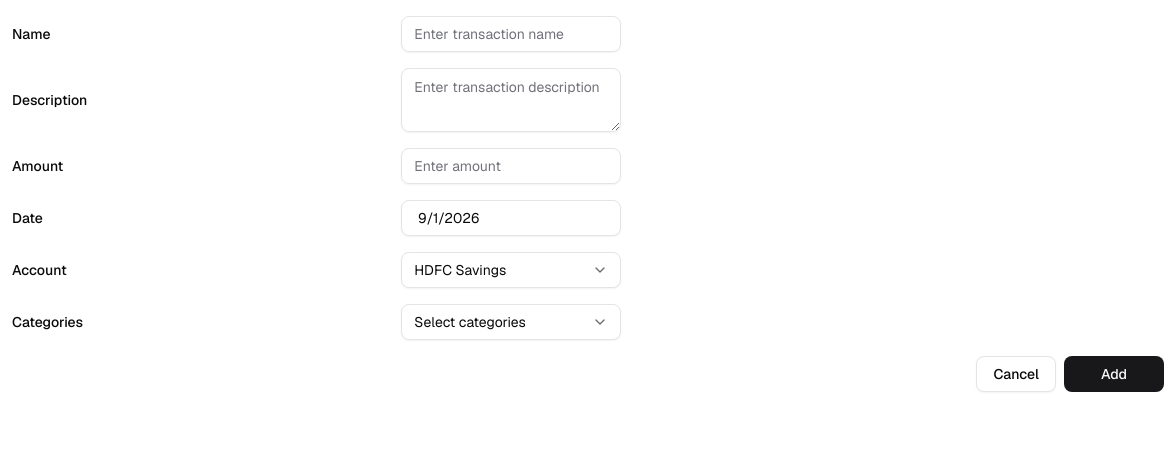
TransactionForm › toggles a category on and off
Click the button "Select categories". click: (511, 322)
box: top-left (401, 304), bottom-right (621, 340)
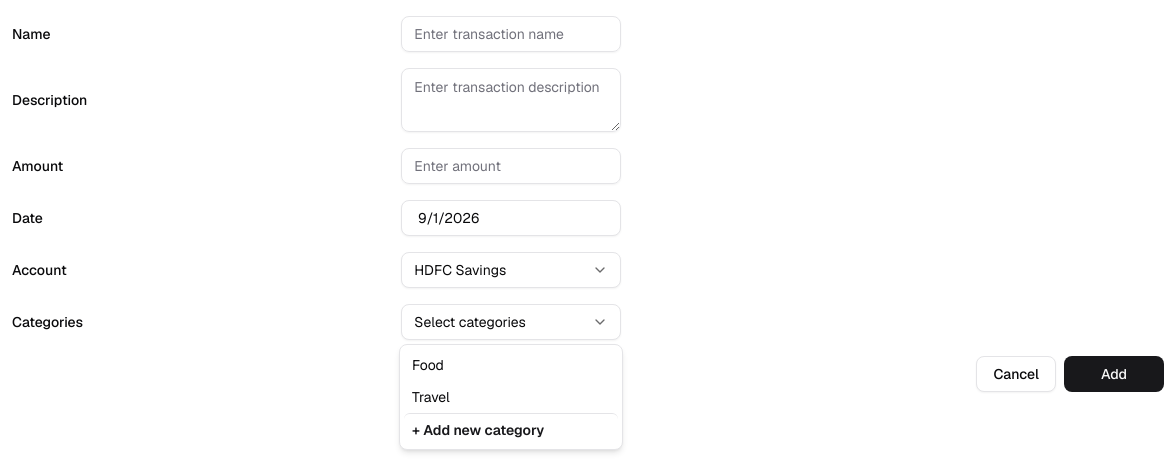
Click the menu item "Food". click: (428, 365)
box: top-left (412, 356), bottom-right (444, 374)
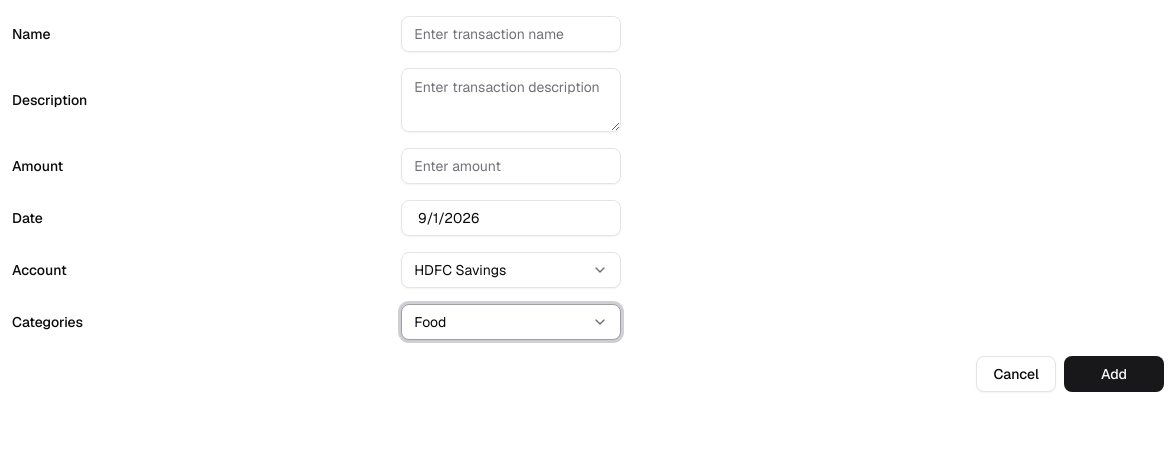
Expected: the button "Food" is shown
Click the button "Food". click: (511, 322)
box: top-left (401, 304), bottom-right (621, 340)
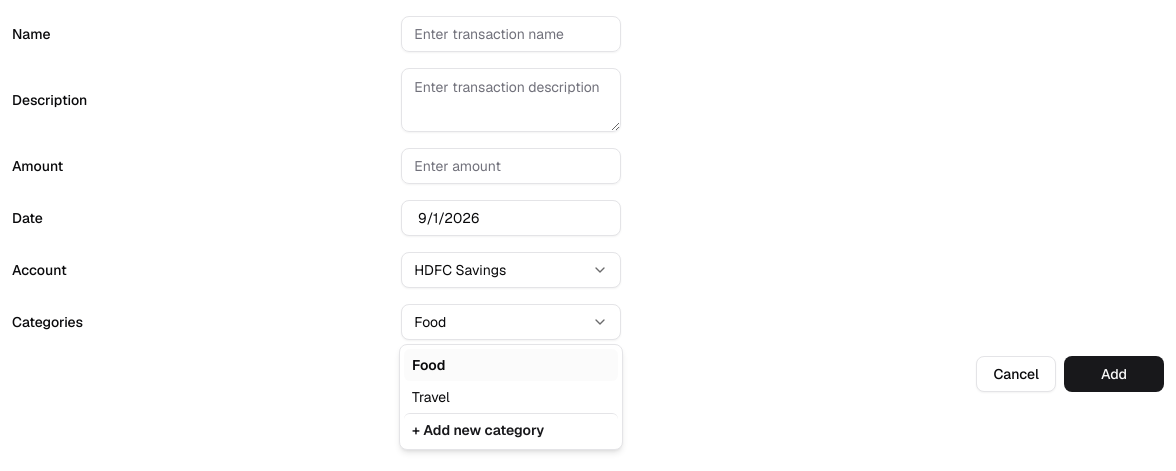
Click the menu item "Food". click: (511, 365)
box: top-left (404, 349), bottom-right (618, 381)
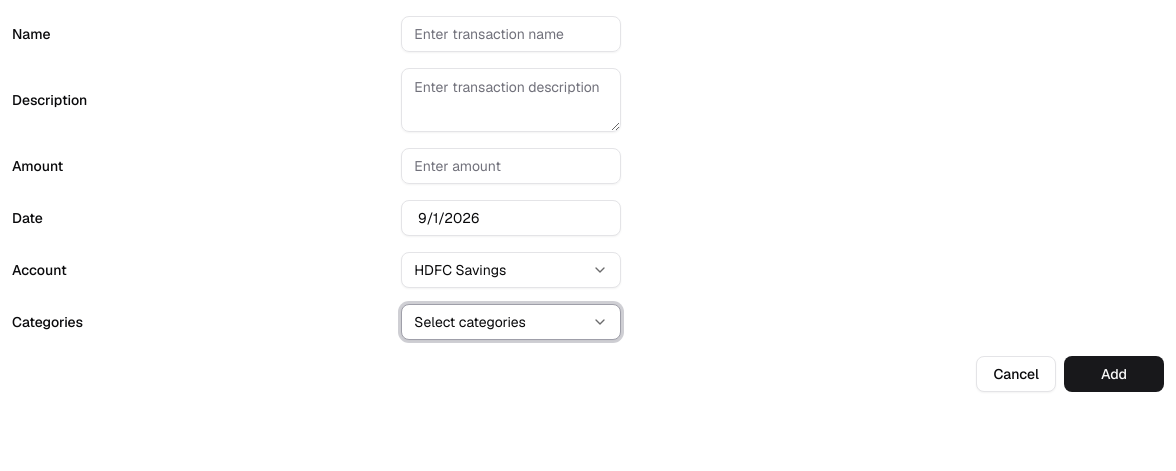
Expected: the button "Select categories" is shown, top-left (401, 304), bottom-right (621, 340)
